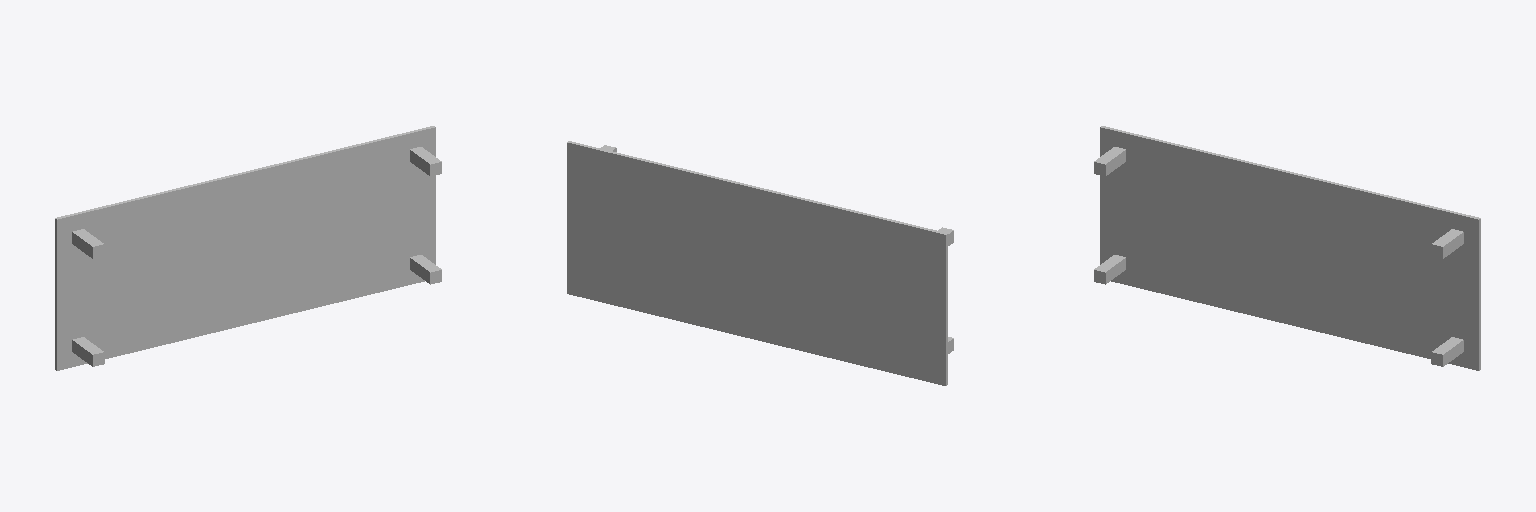
Rendered from random_table18.obj.
3 views of the same model, side by side, from view 1: azimuth 30°, elevation 25°; view 2: azimuth 150°, elevation 25°; view 3: azimuth 330°, elevation 25° (orthographic).
Parts seen in each view (by area): view 1: Table_Cube.285, TableLeg1_Cube.287, TableLeg3_Cube.289, TableLeg0_Cube.286, TableLeg2_Cube.288; view 2: Table_Cube.285; view 3: Table_Cube.285, TableLeg0_Cube.286, TableLeg2_Cube.288, TableLeg1_Cube.287, TableLeg3_Cube.289.
Boxes of the visible parts, x1,y1,x2,y2 form: Table_Cube.285: [55, 126, 435, 370]; TableLeg1_Cube.287: [72, 229, 104, 258]; TableLeg3_Cube.289: [72, 337, 104, 366]; TableLeg0_Cube.286: [410, 147, 441, 176]; TableLeg2_Cube.288: [410, 255, 441, 284]; Table_Cube.285: [567, 141, 947, 385]; Table_Cube.285: [1100, 126, 1480, 370]; TableLeg0_Cube.286: [1431, 229, 1463, 258]; TableLeg2_Cube.288: [1431, 337, 1463, 366]; TableLeg1_Cube.287: [1094, 147, 1125, 176]; TableLeg3_Cube.289: [1094, 255, 1125, 284].
Bounding box in the file's own units: 12.47 × 4.76 × 1.31.